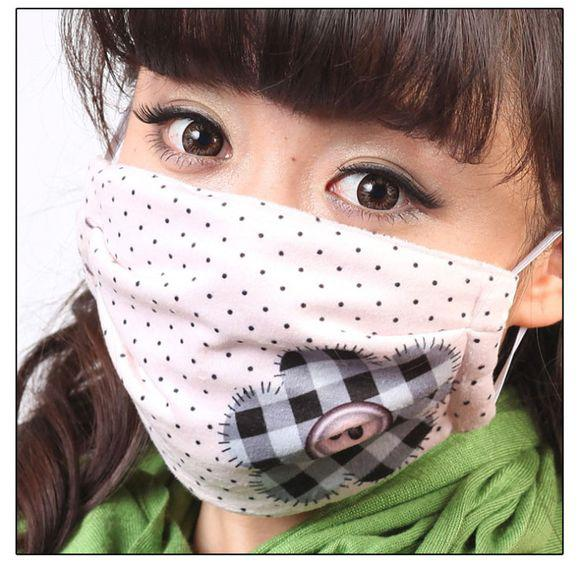OK: (86, 27, 526, 493)
